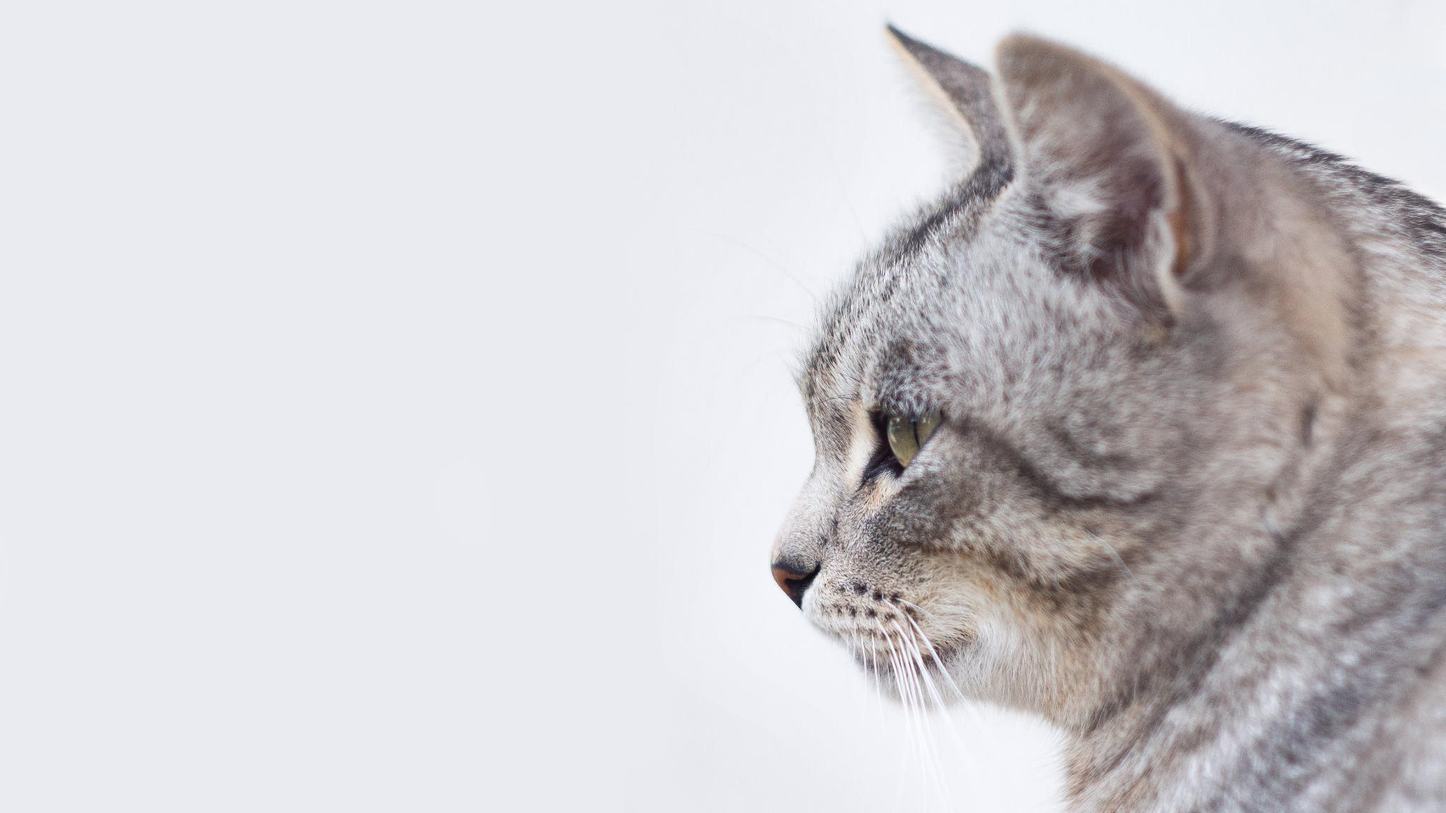cat: (767, 20, 1444, 811)
